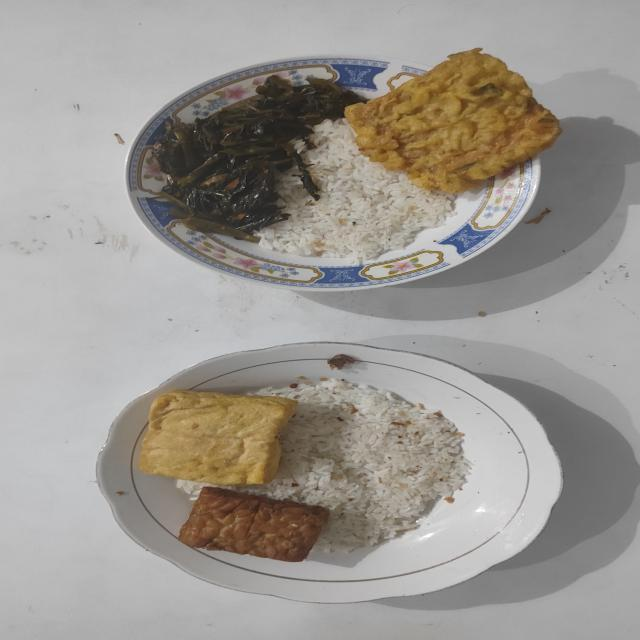nasi_putih: (248, 379, 471, 552), (259, 120, 456, 262)
tahu_goreng: (140, 390, 298, 485)
tempe_goreng: (178, 488, 329, 562)
tumis_kangkung: (153, 75, 366, 242)
